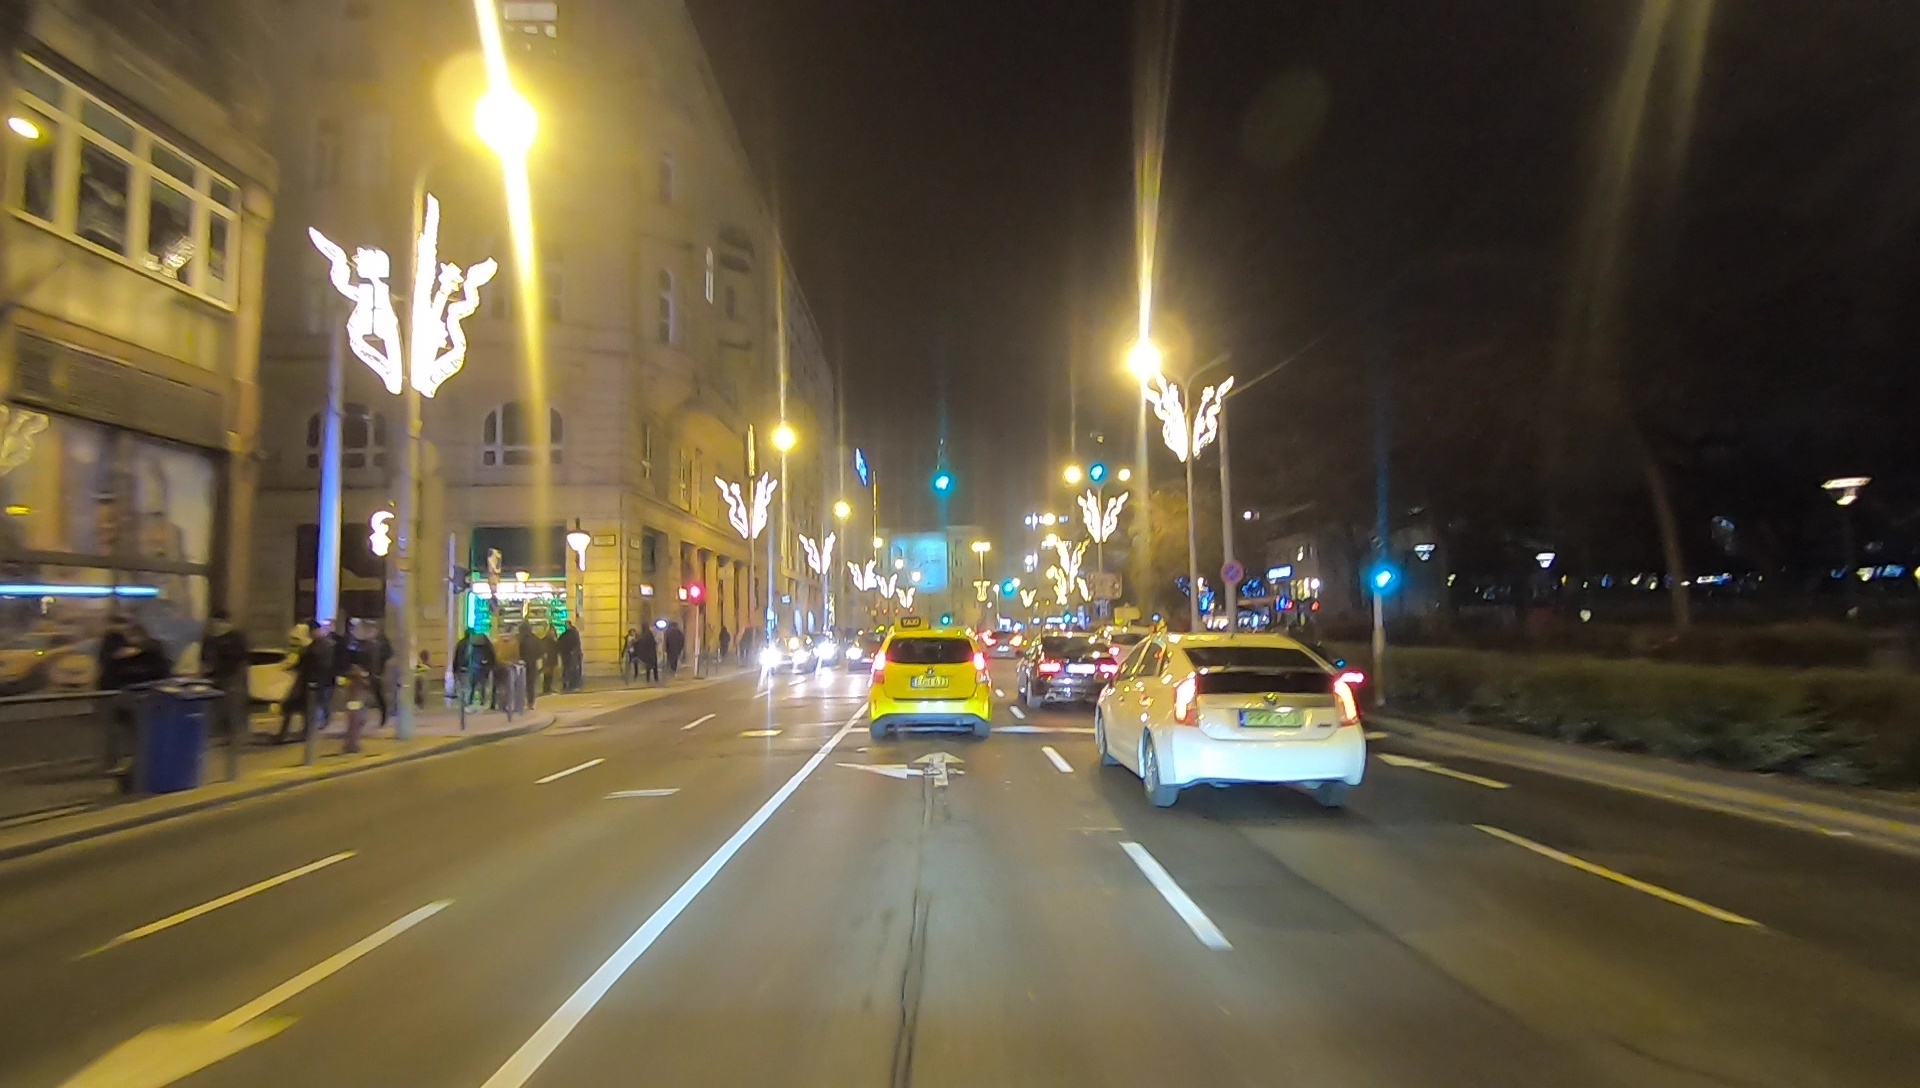person: (197, 619, 249, 767), (117, 628, 165, 780), (95, 621, 141, 773), (343, 621, 393, 728), (288, 623, 326, 754), (308, 624, 341, 741), (539, 623, 562, 697), (469, 634, 491, 711), (521, 626, 539, 702), (564, 624, 580, 691), (458, 637, 471, 715)
